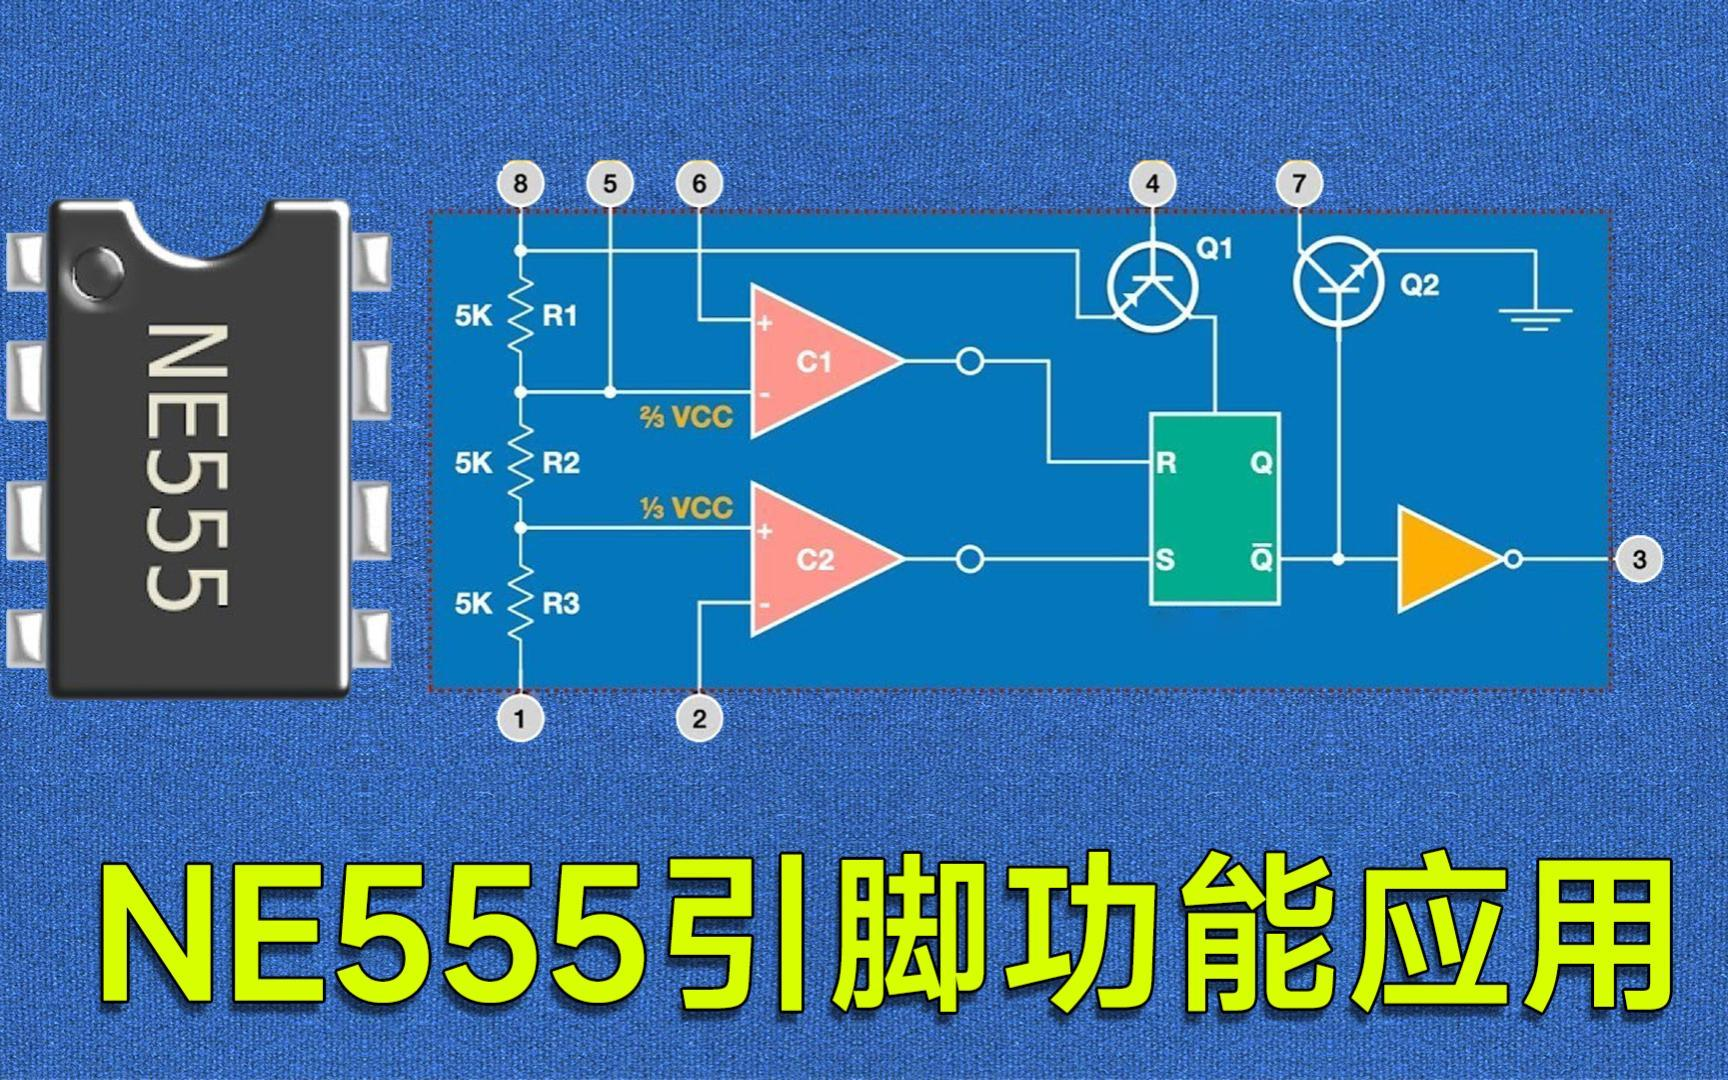bistable flip-flop: (1154, 411, 1283, 606)
comparator1: (751, 279, 904, 444), (751, 483, 907, 636)
discharge circuit: (1296, 239, 1388, 327)
output circuit: (1398, 506, 1525, 615)
reset circuit: (1108, 239, 1201, 333)
resistance: (508, 276, 540, 352), (510, 424, 537, 500), (508, 566, 535, 641)
